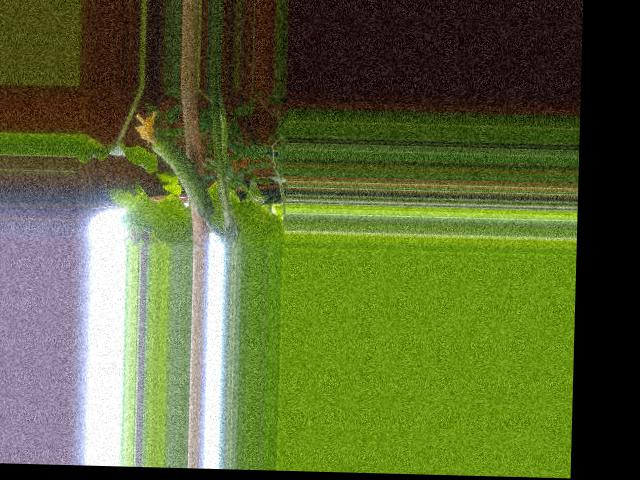cucumber: (131, 110, 215, 217)
